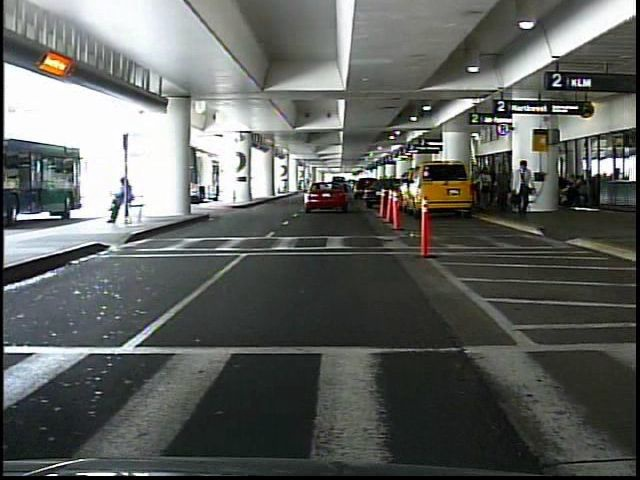person: (515, 161, 535, 217), (495, 163, 512, 218), (479, 165, 493, 209), (295, 179, 304, 194)
